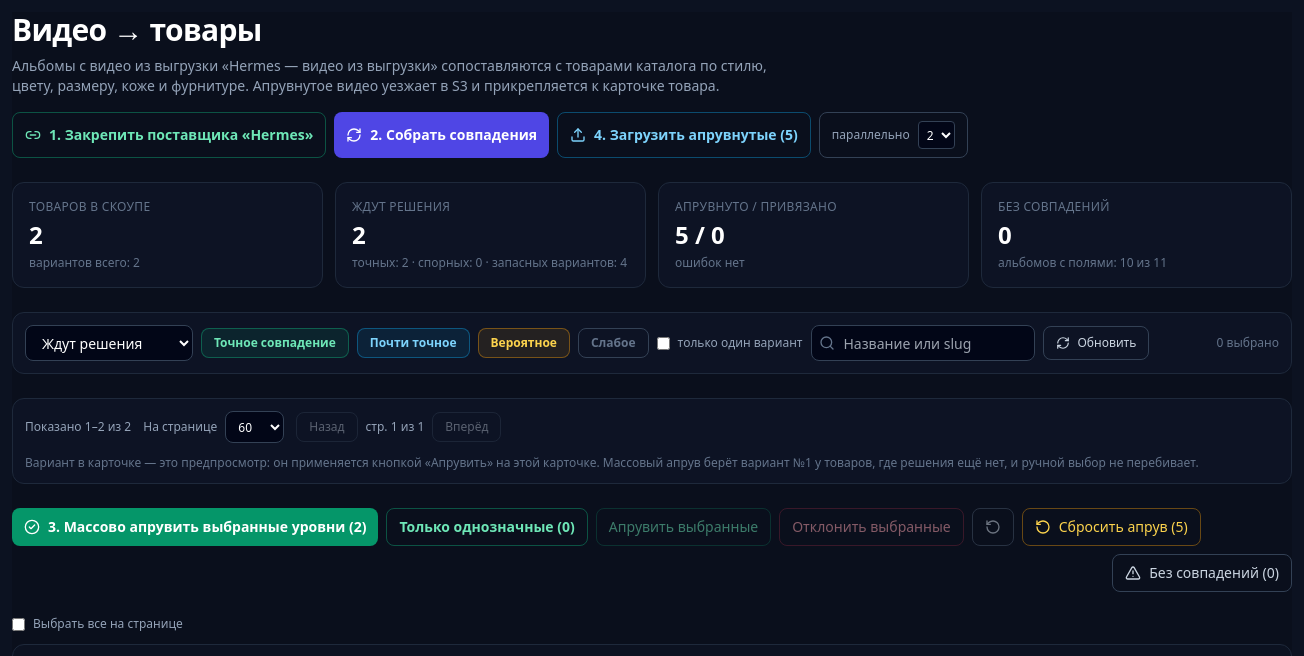
Test: VideoMatchesApp › запускает заливку на сервере, а не циклом во вкладке
Click the button "4. Загрузить апрувнутые (5)" at x=684, y=135, box [557,112,811,158]
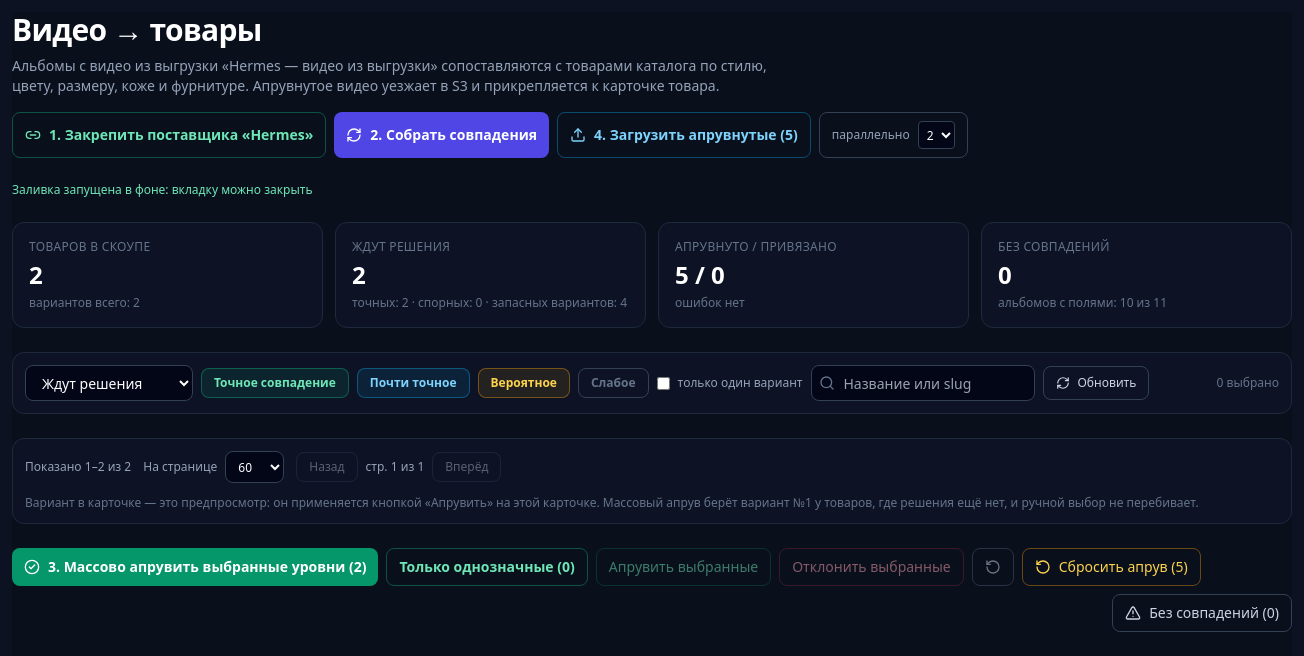
Result: the text "Заливка запущена в фоне: вкладку можно закрыть" is shown at [12,181,313,198]
